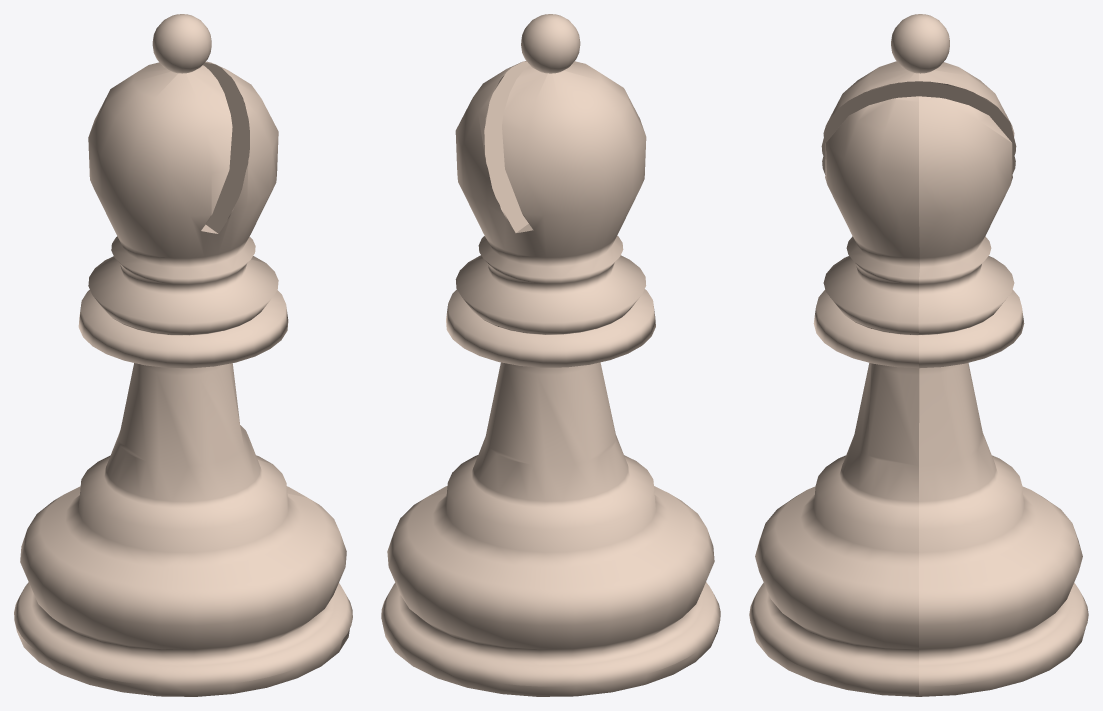
File: Bishop.fbx
3 renders of one model, left to right at view 1: azimuth 30°, elevation 25°; view 2: azimuth 150°, elevation 25°; view 3: azimuth 270°, elevation 25°, orthographic.
Parts seen in each view (by area): view 1: Bishop; view 2: Bishop; view 3: Bishop.
Part boxes in pixels (x1=…): Bishop: x1=14, y1=14, x2=352, y2=696; Bishop: x1=381, y1=14, x2=720, y2=696; Bishop: x1=749, y1=14, x2=1088, y2=696.
Bounding box in the file's own units: 3.34 × 6.63 × 3.34.
